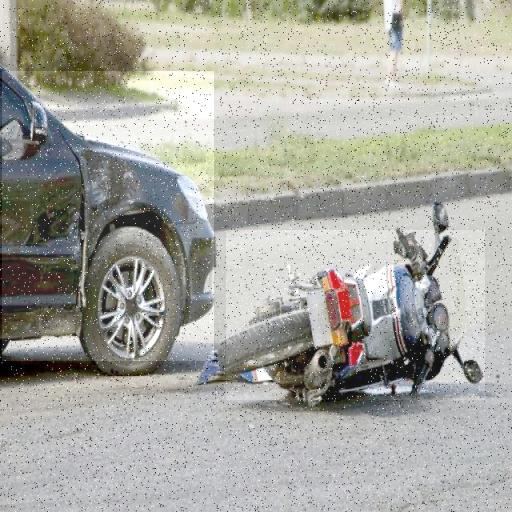小汽车: (2, 71, 214, 361)
自行车: (226, 230, 485, 400)
